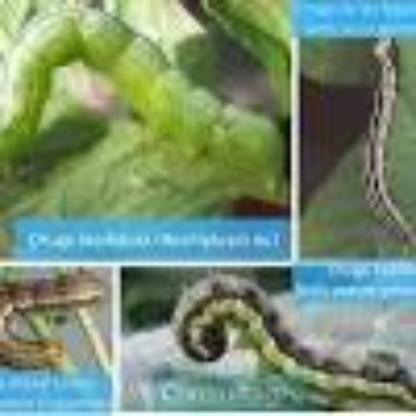oruga: (0, 16, 296, 216), (162, 266, 416, 408), (362, 34, 416, 254), (0, 276, 104, 372)
